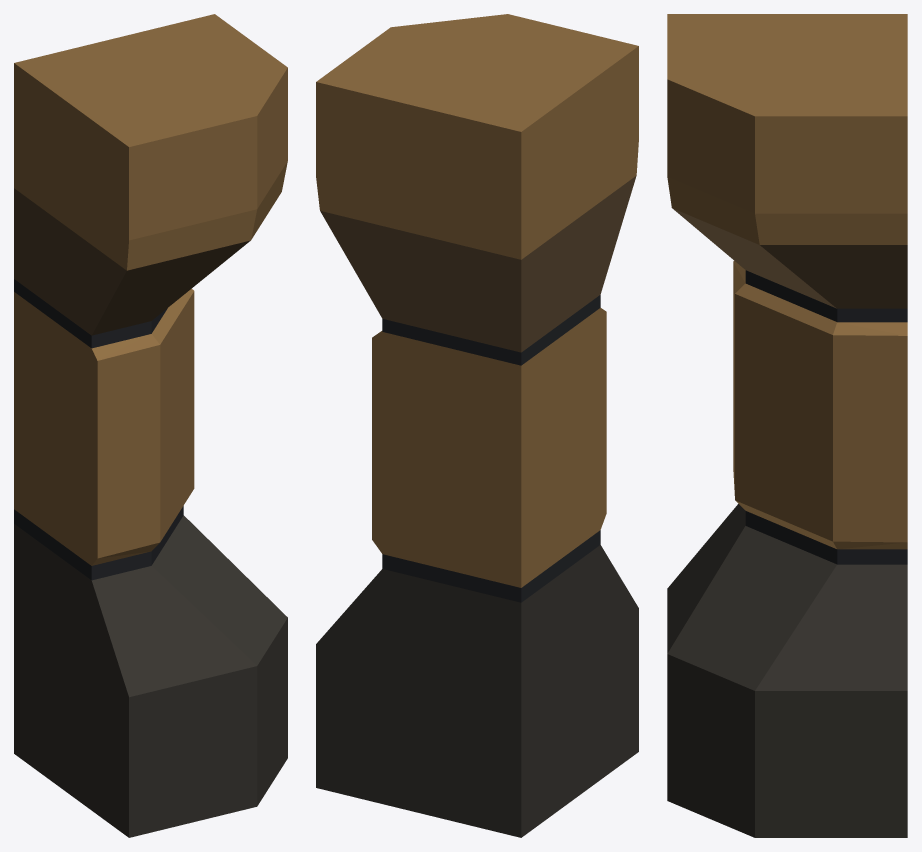
Rendered from ruins_tg_pillar_a.obj.
The picture shows the model from 3 angles, left to right: view 1: azimuth 30°, elevation 25°; view 2: azimuth 150°, elevation 25°; view 3: azimuth 270°, elevation 25°; orthographic projection. The views are drawn at different scales.
Visible parts, largest first — view 1: piece; view 2: piece; view 3: piece.
Boxes of the visible parts, bbox=[...] form: piece: bbox=[14, 14, 287, 837]; piece: bbox=[316, 14, 638, 837]; piece: bbox=[667, 14, 907, 837].
Bounding box in the file's own units: 1.55 × 5.09 × 1.54.
1 material, 1 textured.
